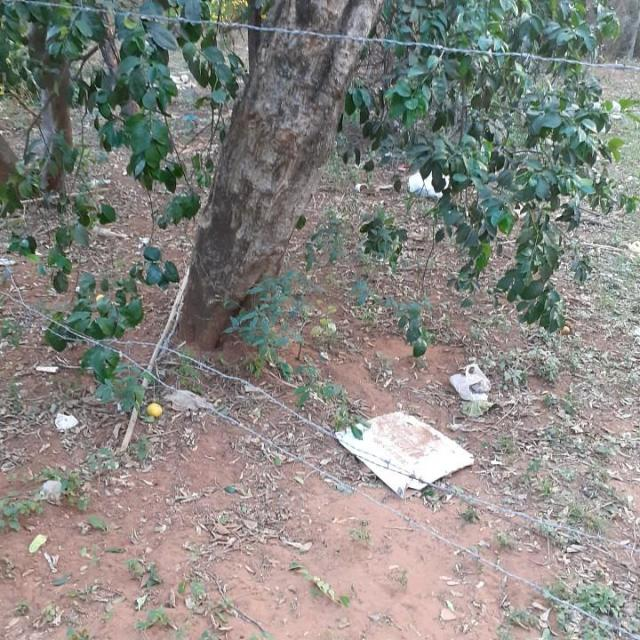litter: (327, 398, 489, 505), (444, 355, 500, 411), (405, 166, 462, 207), (164, 384, 216, 423), (34, 478, 71, 510), (52, 406, 84, 437), (29, 362, 66, 379), (143, 401, 166, 423)
